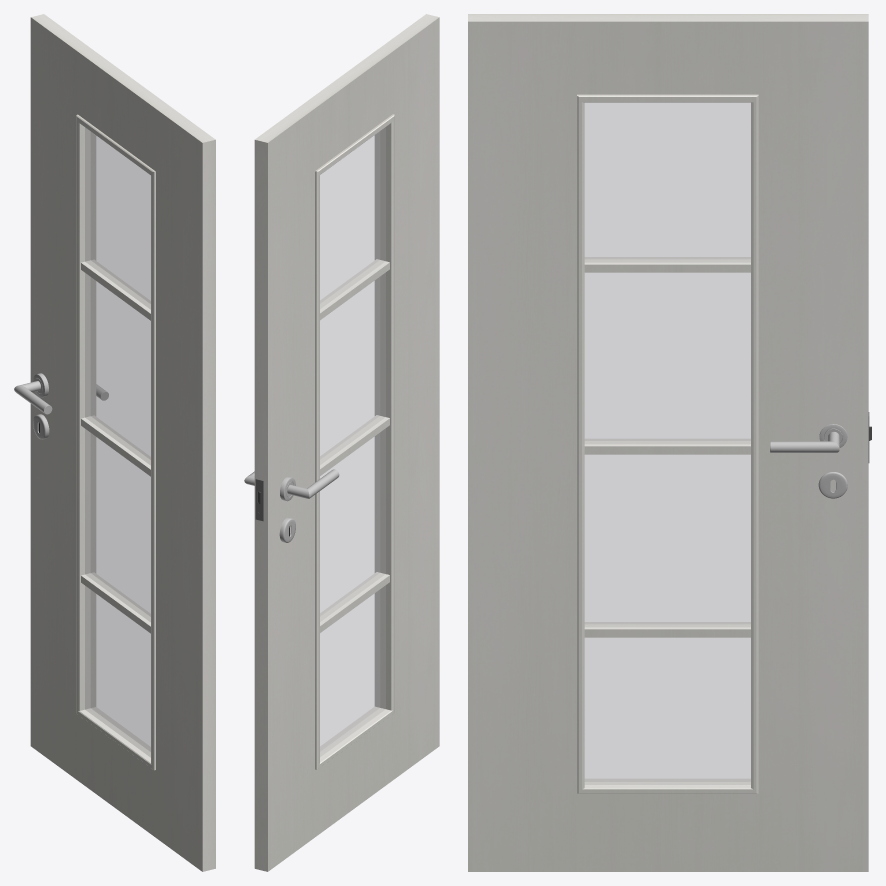
Rendered from door24.glb.
The picture shows the model from 3 angles, left to right: view 1: azimuth 30°, elevation 25°; view 2: azimuth 150°, elevation 25°; view 3: azimuth 270°, elevation 25°; orthographic projection. The views are drawn at different scales.
Parts seen in each view (by area): view 1: TB-LA3-DQ+SP30, Door_Handle_01; view 2: TB-LA3-DQ+SP30, Door_Handle_01; view 3: TB-LA3-DQ+SP30, Door_Handle_01.
Boxes of the visible parts, x1,y1,x2,y2 form: TB-LA3-DQ+SP30: (30,14,215,871); Door_Handle_01: (14,373,108,439); TB-LA3-DQ+SP30: (254,14,439,871); Door_Handle_01: (244,469,339,542); TB-LA3-DQ+SP30: (468,14,871,871); Door_Handle_01: (770,424,847,498).
Size of the model in its own units: 0.1566 by 1.67 by 0.7187.
Materials: 6 (1 with a texture image).
